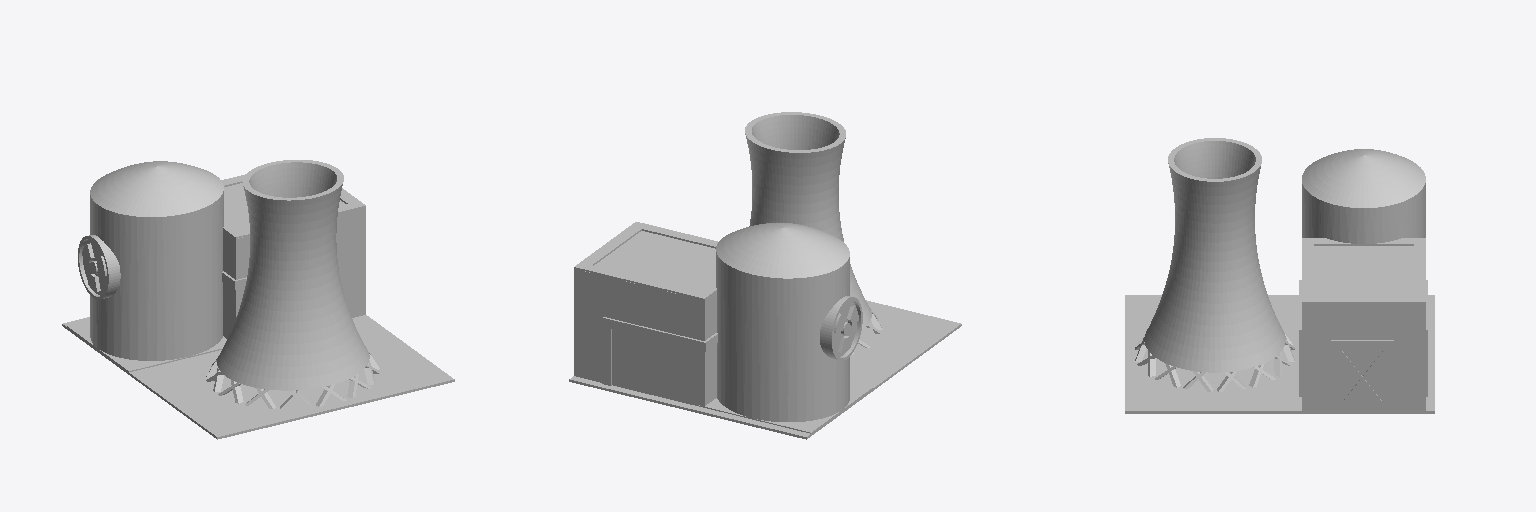
File: nuclear_power_plant.obj
3 renders of one model, left to right at view 1: azimuth 30°, elevation 25°; view 2: azimuth 150°, elevation 25°; view 3: azimuth 270°, elevation 25°, orthographic.
Visible parts, largest first — view 1: centrale_nucleaire_BatimentReacteur, centrale_nucleaire_TourDeRefroidissement, centrale_nucleaire_Sol, centrale_nucleaire_BatimentCarre, centrale_nucleaire_Noir; view 2: centrale_nucleaire_BatimentReacteur, centrale_nucleaire_BatimentCarre, centrale_nucleaire_TourDeRefroidissement, centrale_nucleaire_Sol, centrale_nucleaire_Noir; view 3: centrale_nucleaire_TourDeRefroidissement, centrale_nucleaire_BatimentReacteur, centrale_nucleaire_Sol, centrale_nucleaire_BatimentCarre.
Boxes of the visible parts, x1=… form: centrale_nucleaire_BatimentReacteur: x1=67, y1=161, x2=365, y2=372; centrale_nucleaire_TourDeRefroidissement: x1=206, y1=160, x2=379, y2=409; centrale_nucleaire_Sol: x1=62, y1=315, x2=454, y2=439; centrale_nucleaire_BatimentCarre: x1=224, y1=183, x2=364, y2=317; centrale_nucleaire_Noir: x1=78, y1=235, x2=120, y2=299; centrale_nucleaire_BatimentReacteur: x1=574, y1=222, x2=872, y2=434; centrale_nucleaire_BatimentCarre: x1=575, y1=231, x2=715, y2=407; centrale_nucleaire_TourDeRefroidissement: x1=745, y1=112, x2=882, y2=355; centrale_nucleaire_Sol: x1=569, y1=300, x2=961, y2=439; centrale_nucleaire_Noir: x1=820, y1=296, x2=862, y2=360; centrale_nucleaire_TourDeRefroidissement: x1=1135, y1=138, x2=1294, y2=391; centrale_nucleaire_BatimentReacteur: x1=1299, y1=149, x2=1427, y2=411; centrale_nucleaire_Sol: x1=1125, y1=295, x2=1434, y2=413; centrale_nucleaire_BatimentCarre: x1=1314, y1=246, x2=1413, y2=409.
Size of the model in its own units: 9 by 7 by 10.